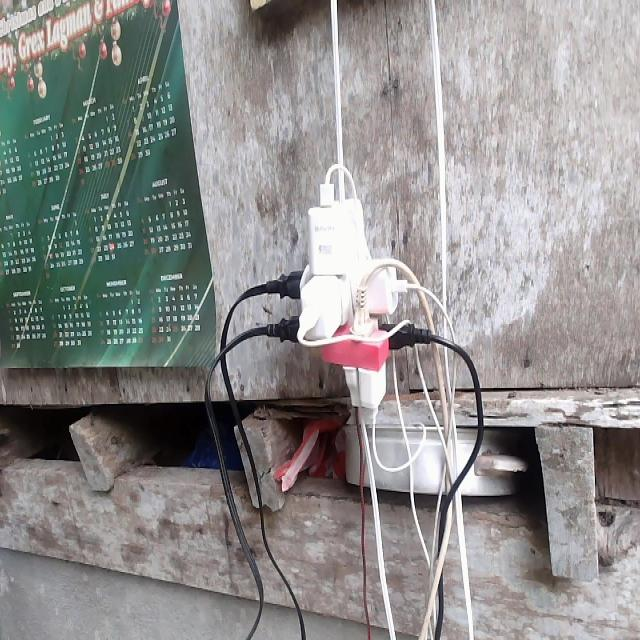-: (260, 176, 432, 424)
